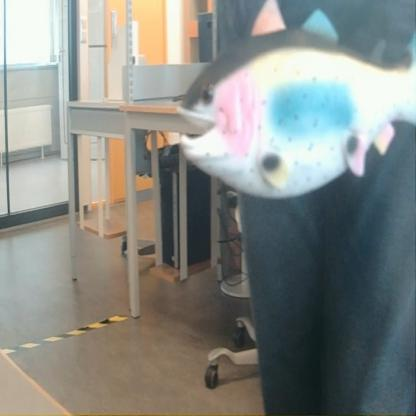rubberfish: (172, 0, 415, 209)
